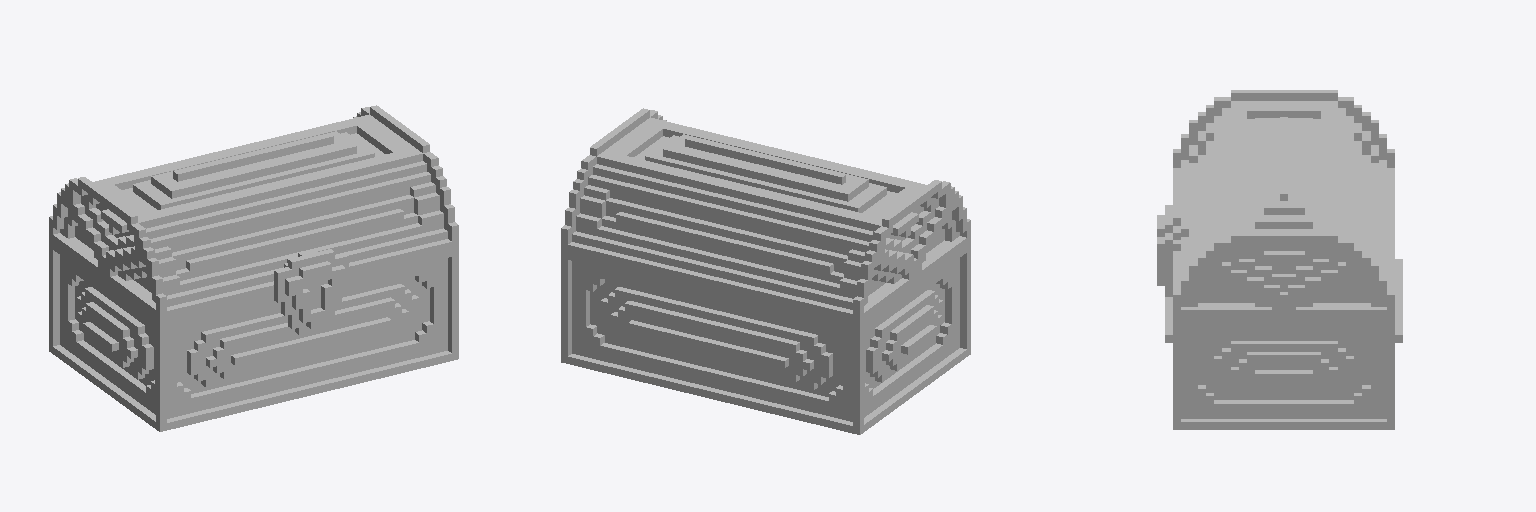
File: chest.obj
The picture shows the model from 3 angles: view 1: azimuth 30°, elevation 25°; view 2: azimuth 150°, elevation 25°; view 3: azimuth 270°, elevation 25°; orthographic projection.
Parts seen in each view (by area): view 1: object 1; view 2: object 1; view 3: object 1.
Boxes of the visible parts, x1=… form: object 1: x1=49, y1=105, x2=458, y2=431; object 1: x1=561, y1=108, x2=970, y2=434; object 1: x1=1157, y1=90, x2=1402, y2=429.
Bounding box in the file's own units: 4.4 × 2.7 × 3.